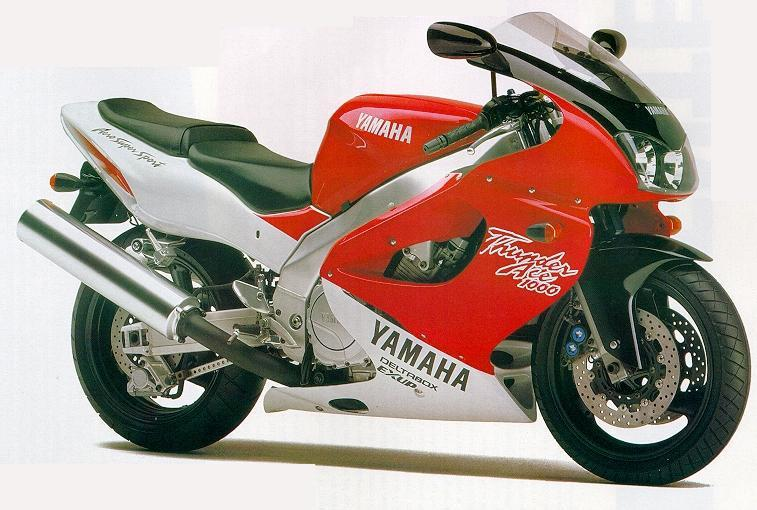motorcycle: (7, 8, 757, 492)
